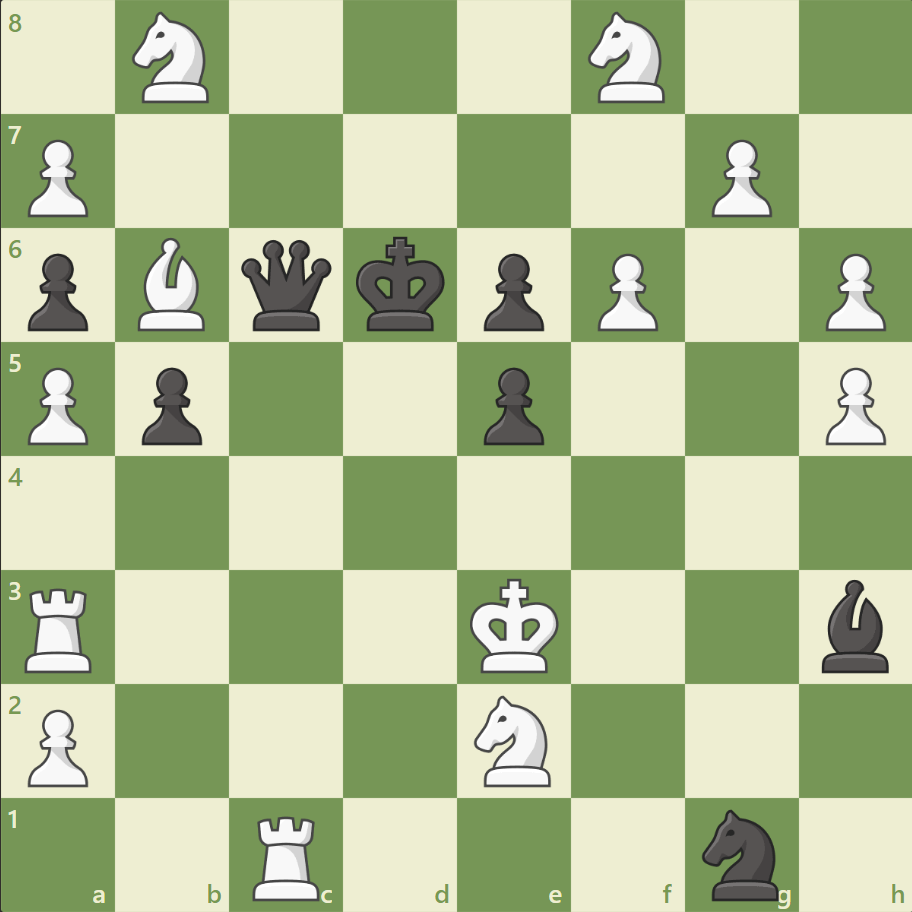B: (131, 233, 215, 336)
K: (465, 571, 565, 679)
N: (124, 7, 222, 110), (579, 7, 676, 110), (465, 688, 562, 791)
P: (20, 132, 95, 223), (701, 132, 776, 223), (20, 359, 95, 450), (20, 700, 95, 791), (588, 246, 662, 337), (815, 246, 889, 337), (815, 359, 889, 450)
R: (246, 806, 329, 904), (19, 579, 102, 676)
b: (812, 574, 896, 676)
k: (351, 231, 451, 339)
n: (692, 802, 789, 904)
p: (20, 246, 95, 337), (474, 246, 549, 337), (133, 359, 208, 450), (474, 359, 549, 450)
q: (237, 236, 336, 335)
